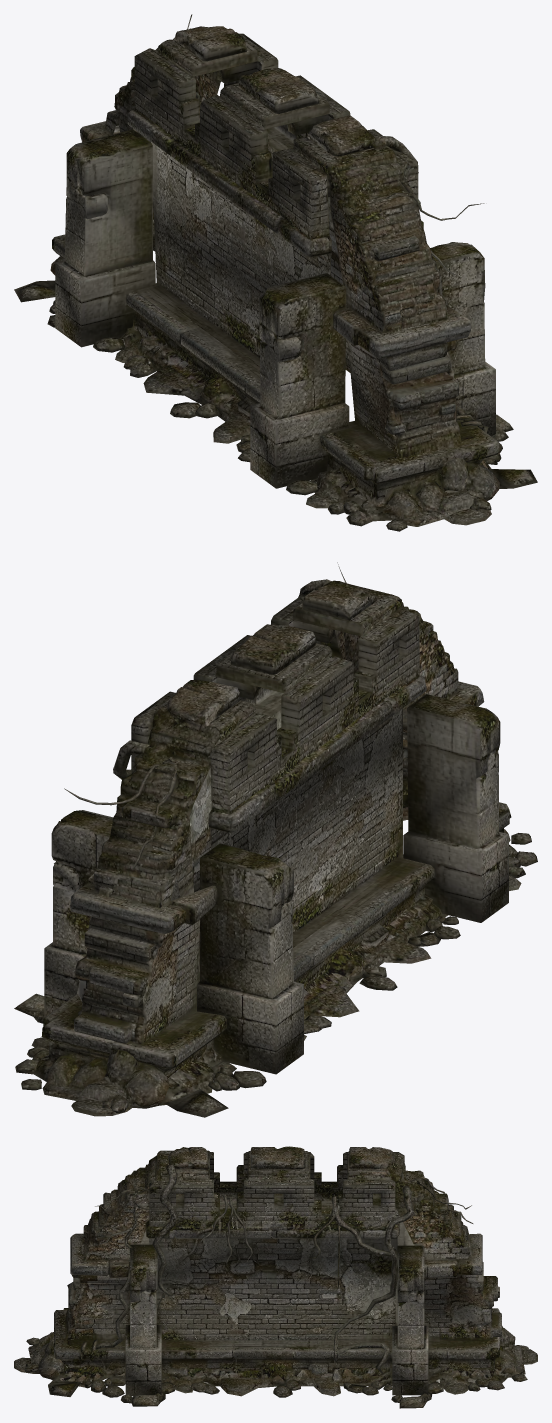
Rendered from tripo_convert_37571e03-5ca1-4b40-ba69-f96e36788957.fbx.
3 renders of one model, top to bottom at view 1: azimuth 30°, elevation 25°; view 2: azimuth 150°, elevation 25°; view 3: azimuth 270°, elevation 25°, orthographic. The views are drawn at different scales.
Parts seen in each view (by area): view 1: tripo_node_37571e03; view 2: tripo_node_37571e03; view 3: tripo_node_37571e03.
Part boxes in pixels (x1=…): tripo_node_37571e03: x1=14, y1=14, x2=537, y2=531; tripo_node_37571e03: x1=14, y1=562, x2=537, y2=1117; tripo_node_37571e03: x1=14, y1=1146, x2=537, y2=1408.
Size of the model in its own units: 0.3809 by 0.4434 by 0.998.
1 material, 1 textured.
